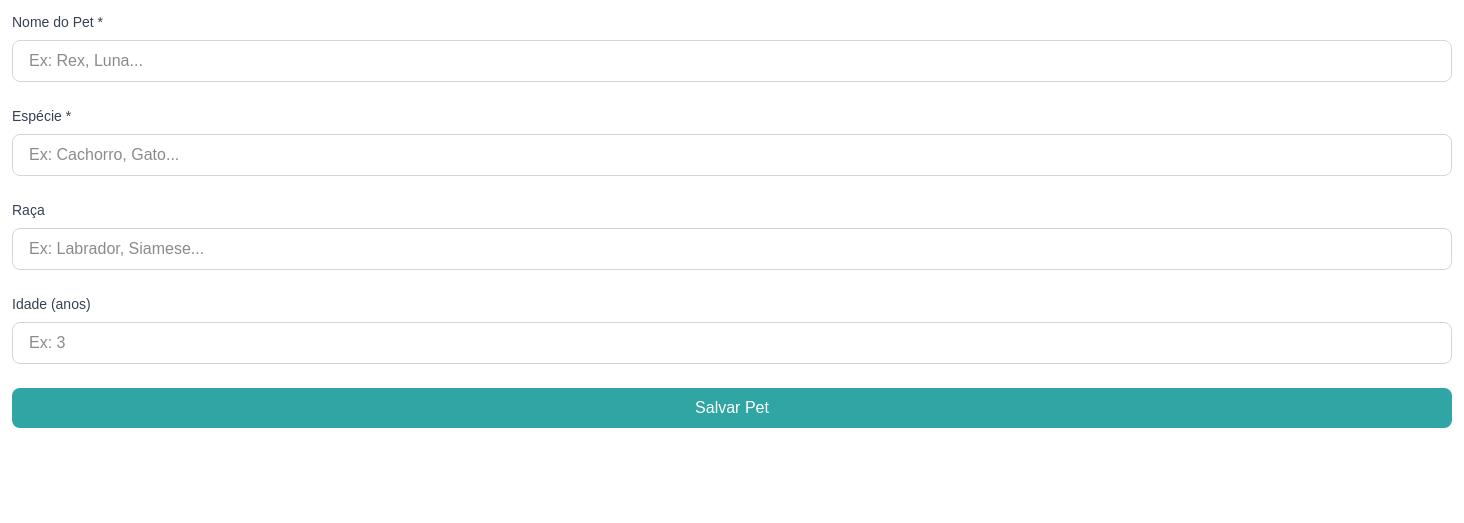
Test: PetForm › shows validation error for short name
Type "Jo" into the field with placeholder "Ex: Rex, Luna..." at [732, 61], box [12,40,1452,82]
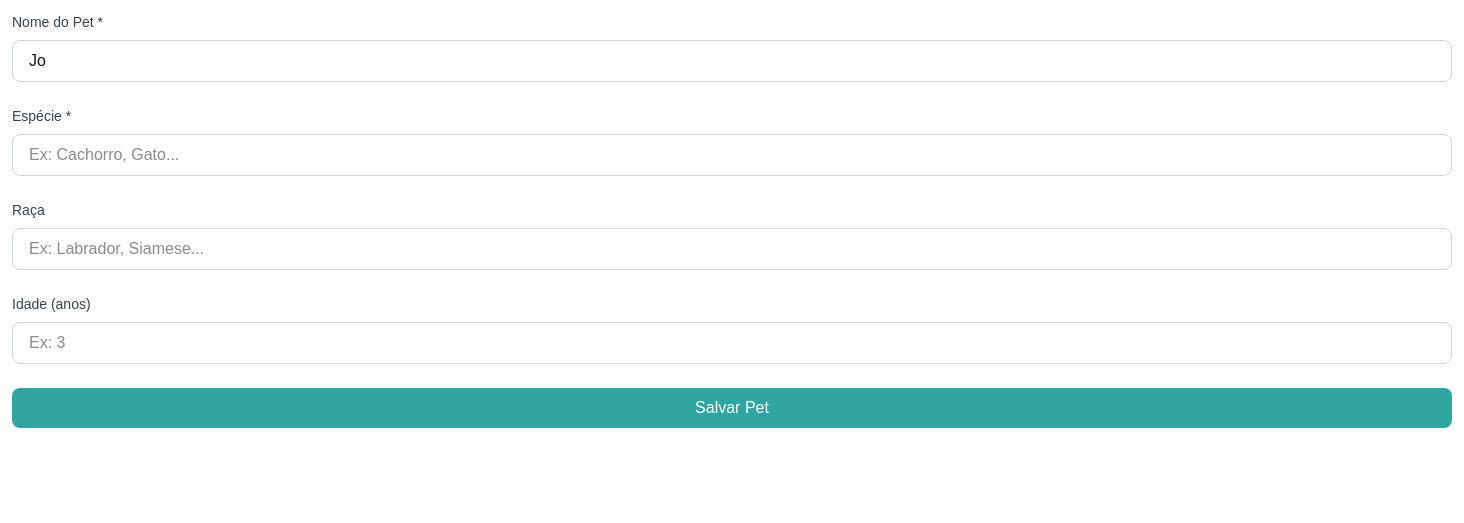
Submit the form from the button "Salvar Pet", box [12,388,1452,428]
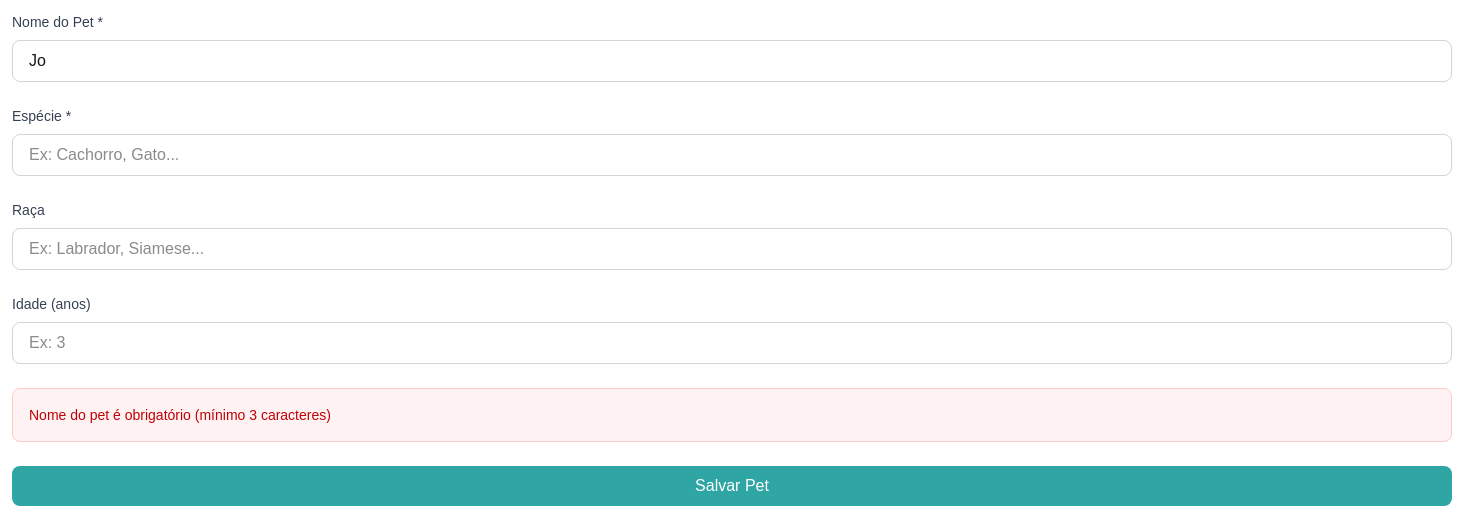
Check: the text "Nome do pet é obrigatório (mínimo 3 caracteres)" is shown, box [29,407,331,423]
